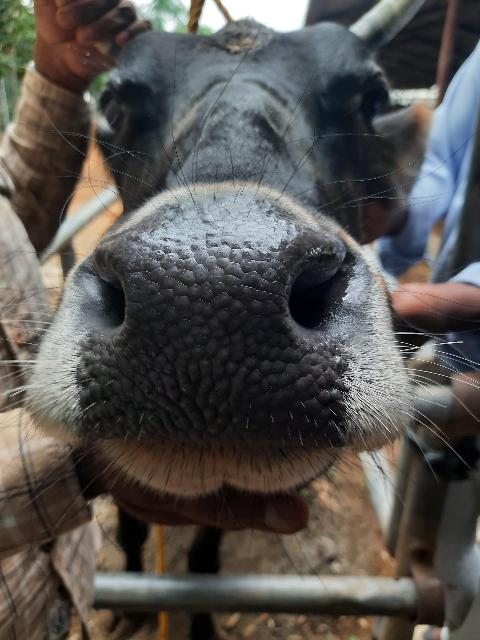Muzzle: (133, 231, 287, 435)
